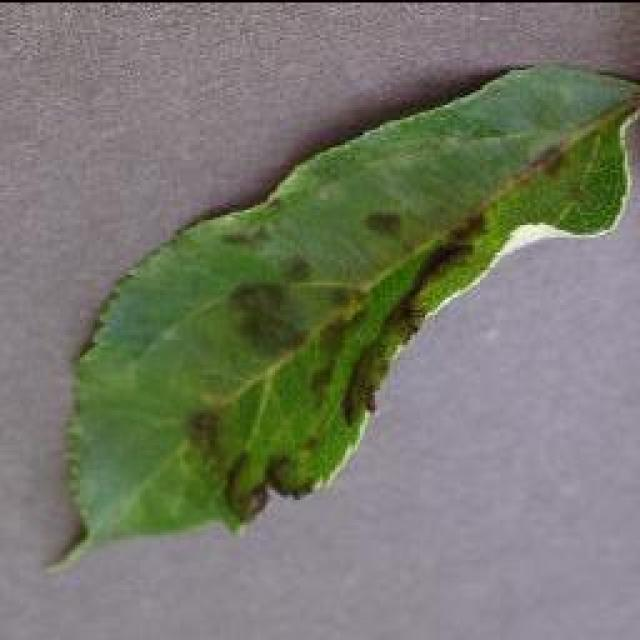apple scab disease: (45, 58, 637, 572)
